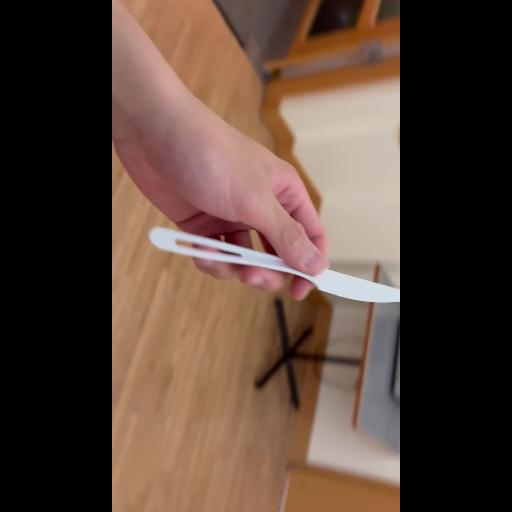utensil: (142, 200, 400, 332)
